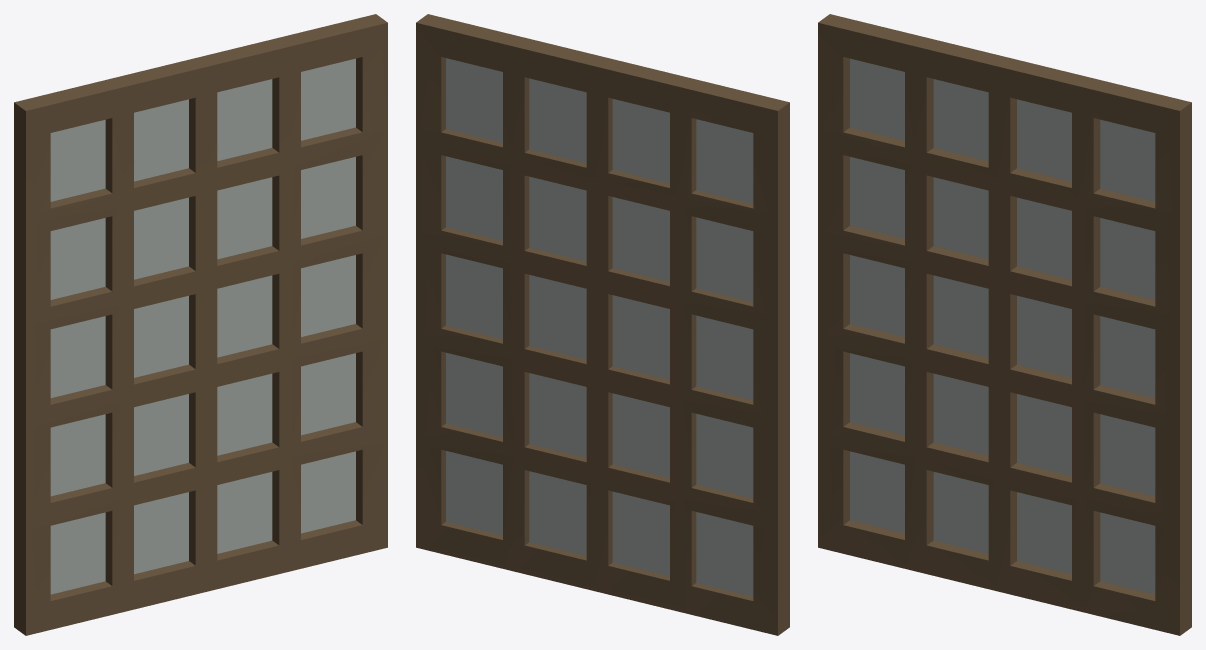
The model's file is SM_Env_Window_01.fbx.
3 renders of one model, left to right at view 1: azimuth 30°, elevation 25°; view 2: azimuth 150°, elevation 25°; view 3: azimuth 330°, elevation 25°, orthographic.
Visible parts, largest first — view 1: SM_Env_Window_01; view 2: SM_Env_Window_01; view 3: SM_Env_Window_01.
Part boxes in pixels (x1=…): SM_Env_Window_01: x1=14, y1=14, x2=387, y2=635; SM_Env_Window_01: x1=416, y1=14, x2=789, y2=635; SM_Env_Window_01: x1=818, y1=14, x2=1191, y2=635.
Bounding box in the file's own units: 70.91 × 98.23 × 4.03.
1 material, 1 textured.
